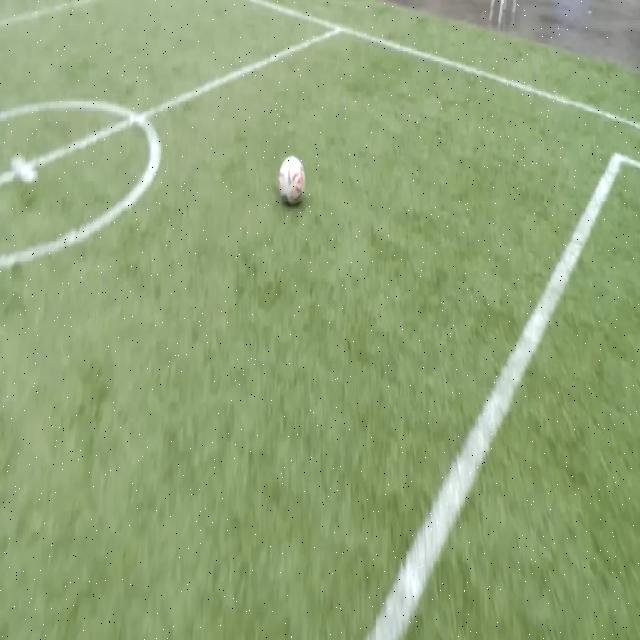ball: (279, 156, 306, 207)
